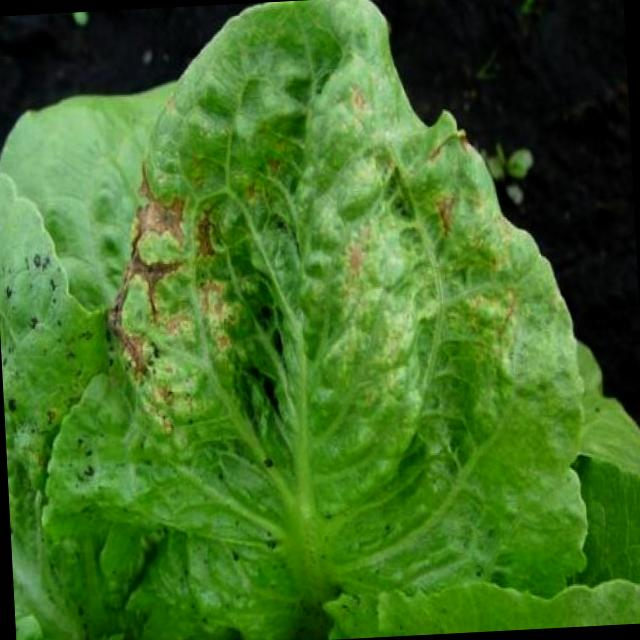Bacterial: (70, 148, 280, 463)
